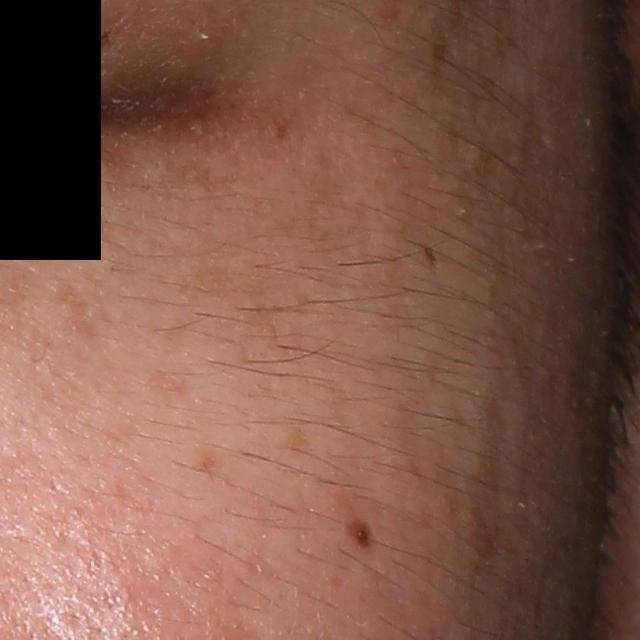melasma: (171, 244, 326, 366), (293, 140, 351, 266), (149, 155, 238, 199), (55, 281, 117, 344), (144, 362, 197, 406), (273, 418, 321, 456), (186, 440, 230, 474)
